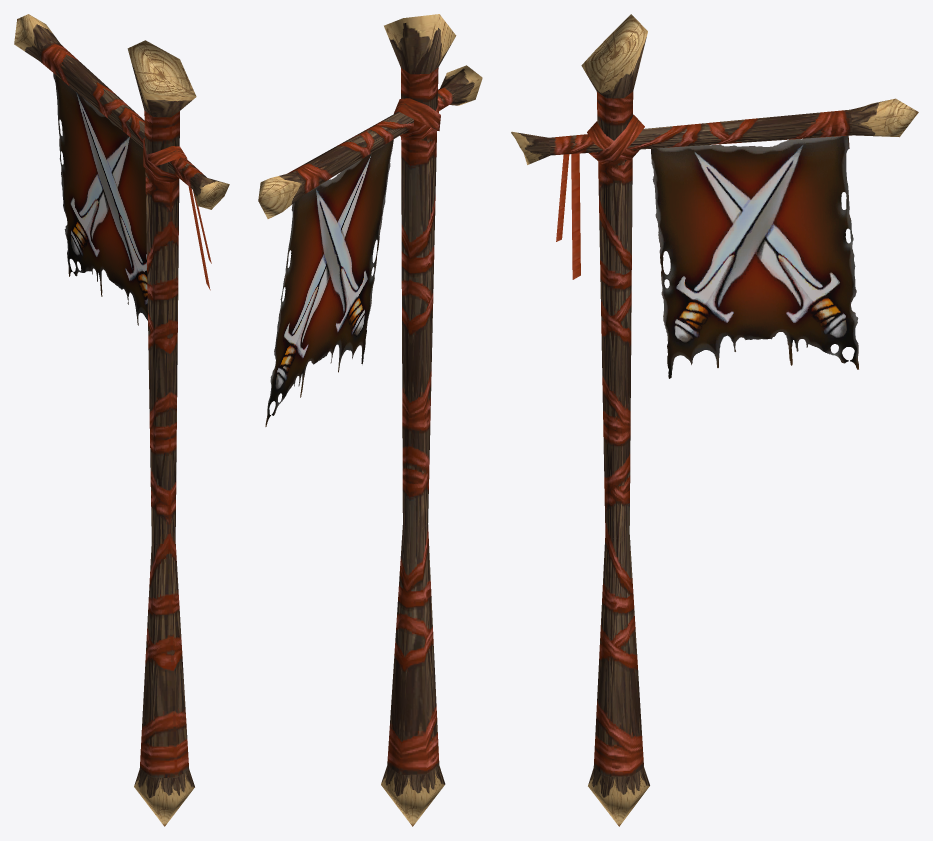
The model's file is duelingflag.obj.
3 views of the same model, side by side, from view 1: azimuth 30°, elevation 25°; view 2: azimuth 150°, elevation 25°; view 3: azimuth 270°, elevation 25° (orthographic). The views are drawn at different scales.
Visible parts, largest first — view 1: Geoset1, Geoset0; view 2: Geoset1, Geoset0; view 3: Geoset0, Geoset1.
Part boxes in pixels (<box>): Geoset1: <box>14,14,229,826</box>; Geoset0: <box>53,73,147,325</box>; Geoset1: <box>258,14,482,826</box>; Geoset0: <box>265,139,393,426</box>; Geoset0: <box>651,135,858,378</box>; Geoset1: <box>511,14,918,826</box>.
Size of the model in its own units: 0.4224 by 5.81 by 2.7.
Materials: 2 (2 with a texture image).
